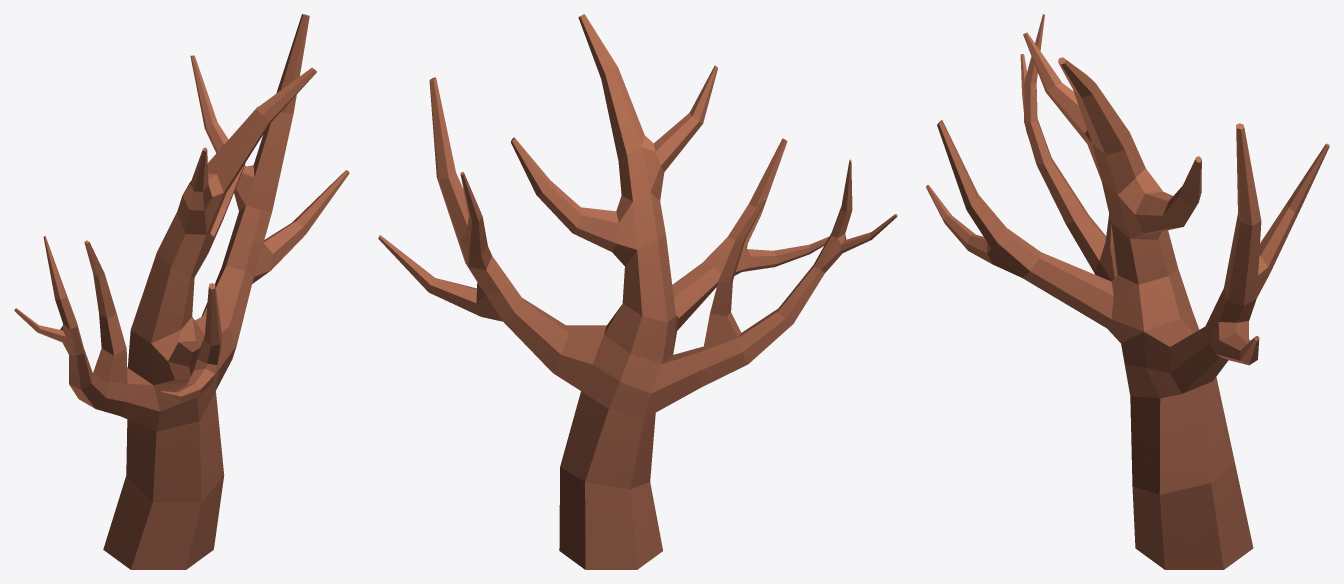
The model's file is wasteland_tree1.fbx.
3 views of the same model, side by side, from view 1: azimuth 30°, elevation 25°; view 2: azimuth 150°, elevation 25°; view 3: azimuth 270°, elevation 25° (orthographic). The views are drawn at different scales.
Visible parts, largest first — view 1: wasteland_tree1; view 2: wasteland_tree1; view 3: wasteland_tree1.
Part boxes in pixels (x1,y1,x2,y2): wasteland_tree1: (14, 14, 349, 569); wasteland_tree1: (378, 14, 897, 569); wasteland_tree1: (926, 14, 1329, 569).
Size of the model in its own units: 6.21 by 6.75 by 4.58.
